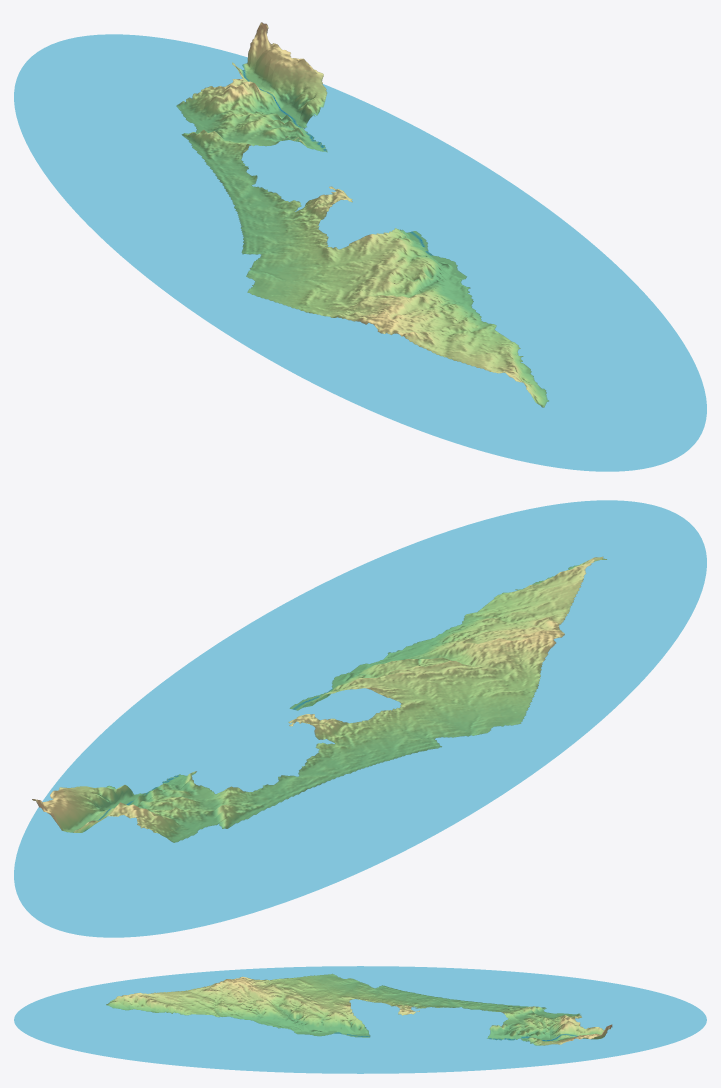
File: ISR-terrain.glb
The picture shows the model from 3 angles, top to bottom: view 1: azimuth 30°, elevation 25°; view 2: azimuth 150°, elevation 25°; view 3: azimuth 270°, elevation 25°; orthographic projection. The views are drawn at different scales.
Visible parts, largest first — view 1: Relevo com hidrografia; view 2: Relevo com hidrografia; view 3: Relevo com hidrografia.
Part boxes in pixels (x1,y1,x2,y2): Relevo com hidrografia: (14,22,706,471); Relevo com hidrografia: (14,500,706,937); Relevo com hidrografia: (14,966,706,1073).
Size of the model in its own units: 0.807 by 0.1071 by 2.19.
2 materials, 1 textured.
